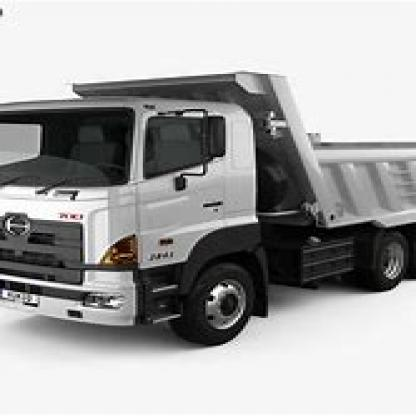dump_truck: (0, 56, 406, 353)
